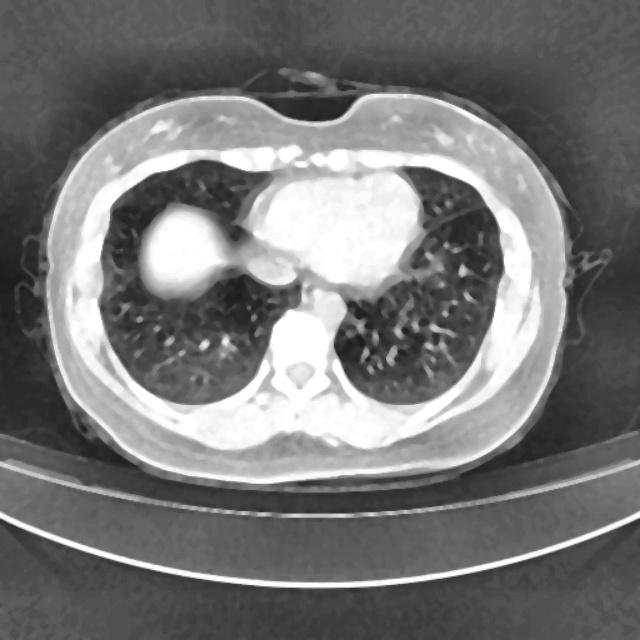covid: (33, 83, 583, 491)
